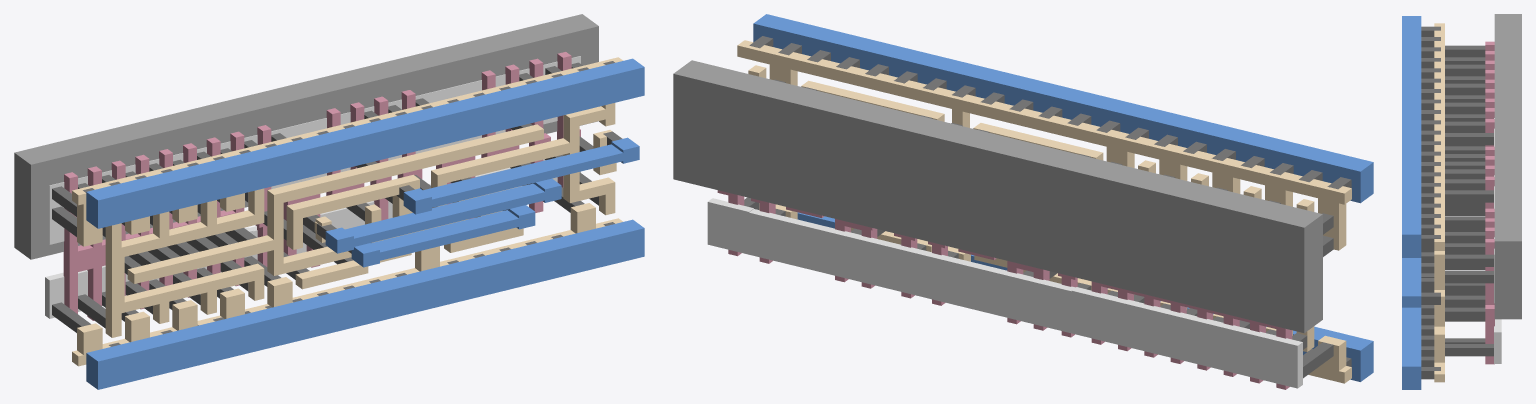
File: sky130_fd_sc_hd__mux2_8.gds.gltf
The picture shows the model from 3 angles, left to right: view 1: azimuth 30°, elevation 25°; view 2: azimuth 150°, elevation 25°; view 3: azimuth 270°, elevation 25°; orthographic projection. The views are drawn at different scales.
Parts seen in each view (by area): view 1: sky130_fd_sc_hd__mux2_8_met1, sky130_fd_sc_hd__mux2_8_li1, sky130_fd_sc_hd__mux2_8_nwell, sky130_fd_sc_hd__mux2_8_poly, sky130_fd_sc_hd__mux2_8_licon, sky130_fd_sc_hd__mux2_8_diff, sky130_fd_sc_hd__mux2_8_mcon; view 2: sky130_fd_sc_hd__mux2_8_nwell, sky130_fd_sc_hd__mux2_8_diff, sky130_fd_sc_hd__mux2_8_li1, sky130_fd_sc_hd__mux2_8_met1, sky130_fd_sc_hd__mux2_8_poly, sky130_fd_sc_hd__mux2_8_mcon, sky130_fd_sc_hd__mux2_8_licon; view 3: sky130_fd_sc_hd__mux2_8_licon, sky130_fd_sc_hd__mux2_8_nwell, sky130_fd_sc_hd__mux2_8_met1, sky130_fd_sc_hd__mux2_8_mcon, sky130_fd_sc_hd__mux2_8_li1, sky130_fd_sc_hd__mux2_8_poly, sky130_fd_sc_hd__mux2_8_diff.
Boxes of the visible parts, left/top/right/bottom form: sky130_fd_sc_hd__mux2_8_met1: left=86, top=58, right=644, bottom=389; sky130_fd_sc_hd__mux2_8_li1: left=72, top=57, right=622, bottom=366; sky130_fd_sc_hd__mux2_8_nwell: left=14, top=14, right=598, bottom=259; sky130_fd_sc_hd__mux2_8_poly: left=63, top=52, right=580, bottom=320; sky130_fd_sc_hd__mux2_8_licon: left=52, top=62, right=598, bottom=332; sky130_fd_sc_hd__mux2_8_diff: left=45, top=56, right=580, bottom=318; sky130_fd_sc_hd__mux2_8_mcon: left=83, top=61, right=622, bottom=346; sky130_fd_sc_hd__mux2_8_nwell: left=673, top=60, right=1322, bottom=333; sky130_fd_sc_hd__mux2_8_diff: left=707, top=198, right=1302, bottom=388; sky130_fd_sc_hd__mux2_8_li1: left=737, top=40, right=1351, bottom=383; sky130_fd_sc_hd__mux2_8_met1: left=753, top=14, right=1373, bottom=381; sky130_fd_sc_hd__mux2_8_poly: left=717, top=190, right=1292, bottom=389; sky130_fd_sc_hd__mux2_8_mcon: left=749, top=36, right=1351, bottom=366; sky130_fd_sc_hd__mux2_8_licon: left=744, top=79, right=1333, bottom=378; sky130_fd_sc_hd__mux2_8_licon: left=1445, top=45, right=1493, bottom=356; sky130_fd_sc_hd__mux2_8_nwell: left=1494, top=14, right=1521, bottom=319; sky130_fd_sc_hd__mux2_8_met1: left=1402, top=16, right=1421, bottom=389; sky130_fd_sc_hd__mux2_8_mcon: left=1421, top=26, right=1440, bottom=379; sky130_fd_sc_hd__mux2_8_li1: left=1434, top=23, right=1444, bottom=382; sky130_fd_sc_hd__mux2_8_poly: left=1485, top=41, right=1494, bottom=364; sky130_fd_sc_hd__mux2_8_diff: left=1494, top=118, right=1501, bottom=363.
Bounding box in the file's own units: 10.04 × 3.2 × 2.24.
